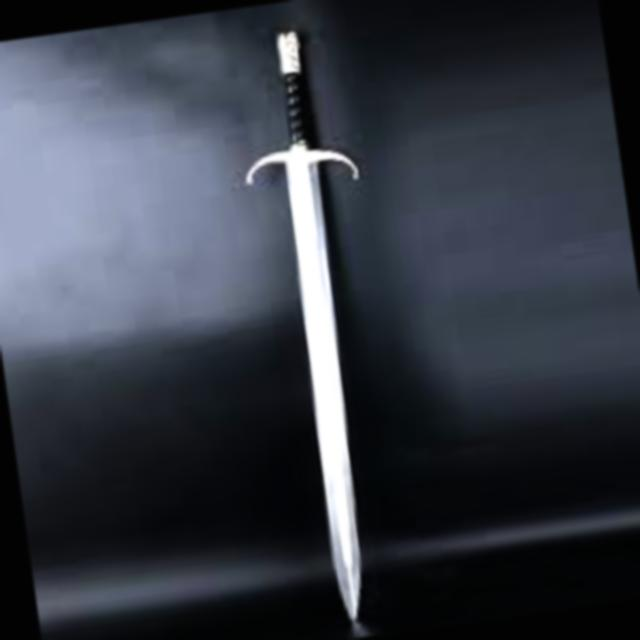long sword: (228, 20, 427, 634)
